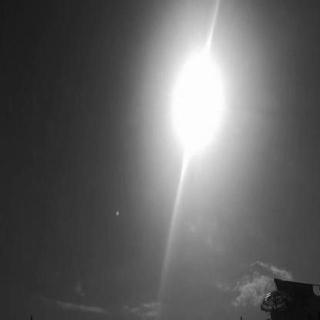other: (157, 33, 249, 201)
